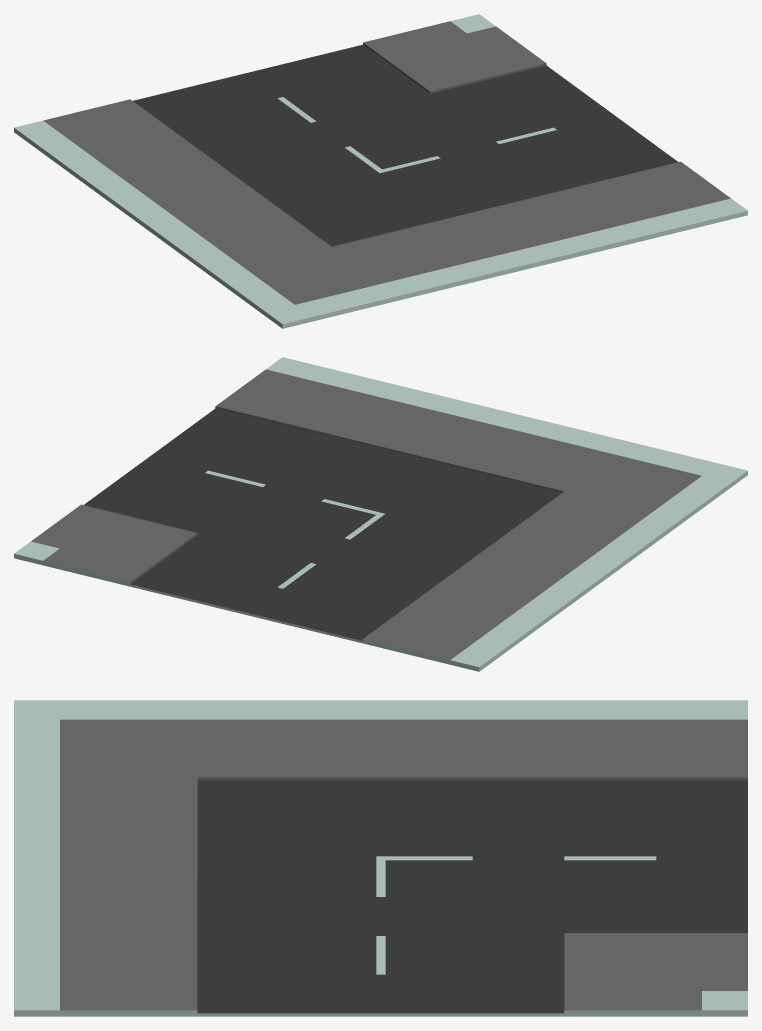
The model's file is road_turn.fbx.
The picture shows the model from 3 angles, top to bottom: view 1: azimuth 30°, elevation 25°; view 2: azimuth 150°, elevation 25°; view 3: azimuth 270°, elevation 25°; orthographic projection. The views are drawn at different scales.
Parts seen in each view (by area): view 1: Cube; view 2: Cube; view 3: Cube.
Part boxes in pixels (box(x1,y1,x2,y2)): Cube: box(14, 14, 747, 328); Cube: box(14, 357, 747, 671); Cube: box(14, 700, 747, 1016).
Size of the model in its own units: 8 by 0.0761 by 8.
